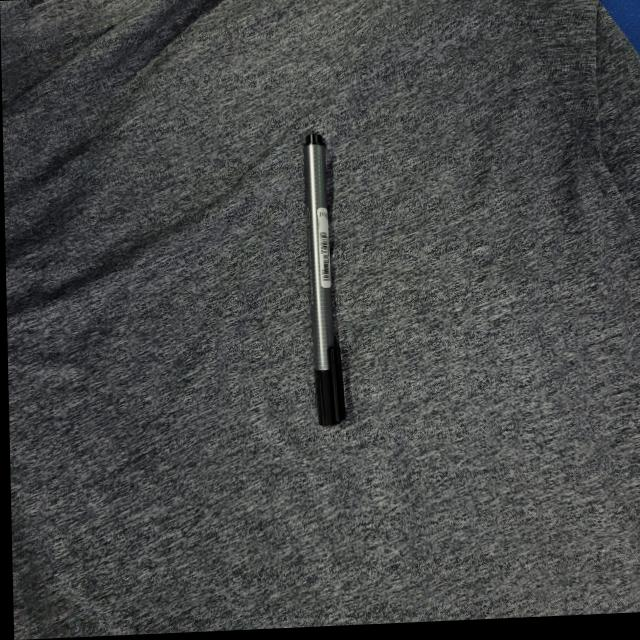caneta: (284, 119, 351, 436)
